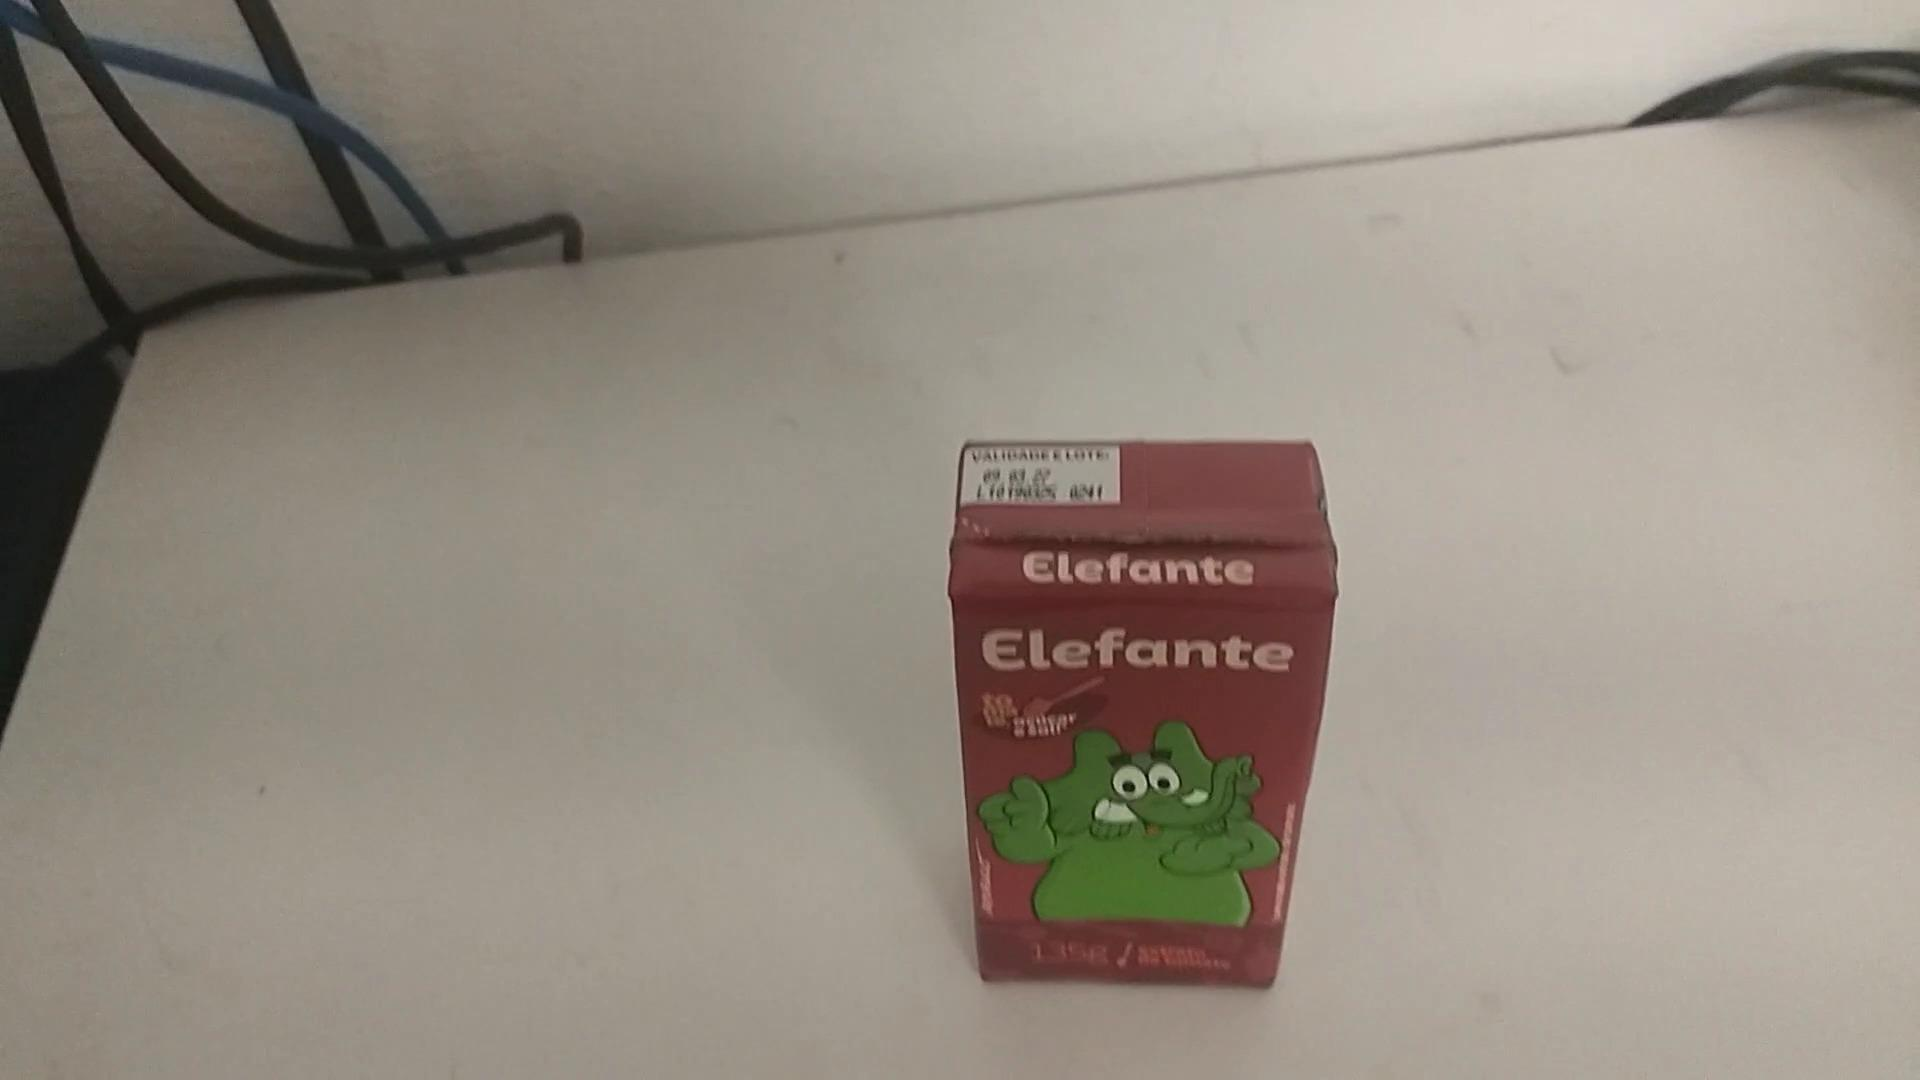tomate: (926, 415, 1338, 984)
